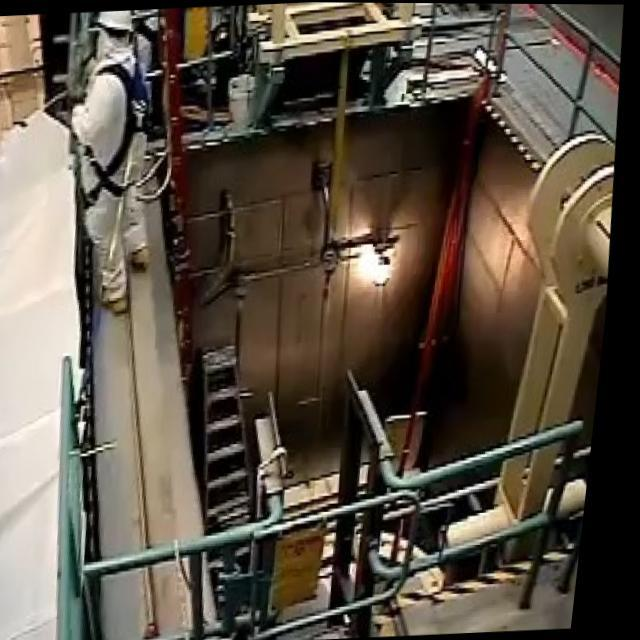belt: (68, 48, 165, 204)
